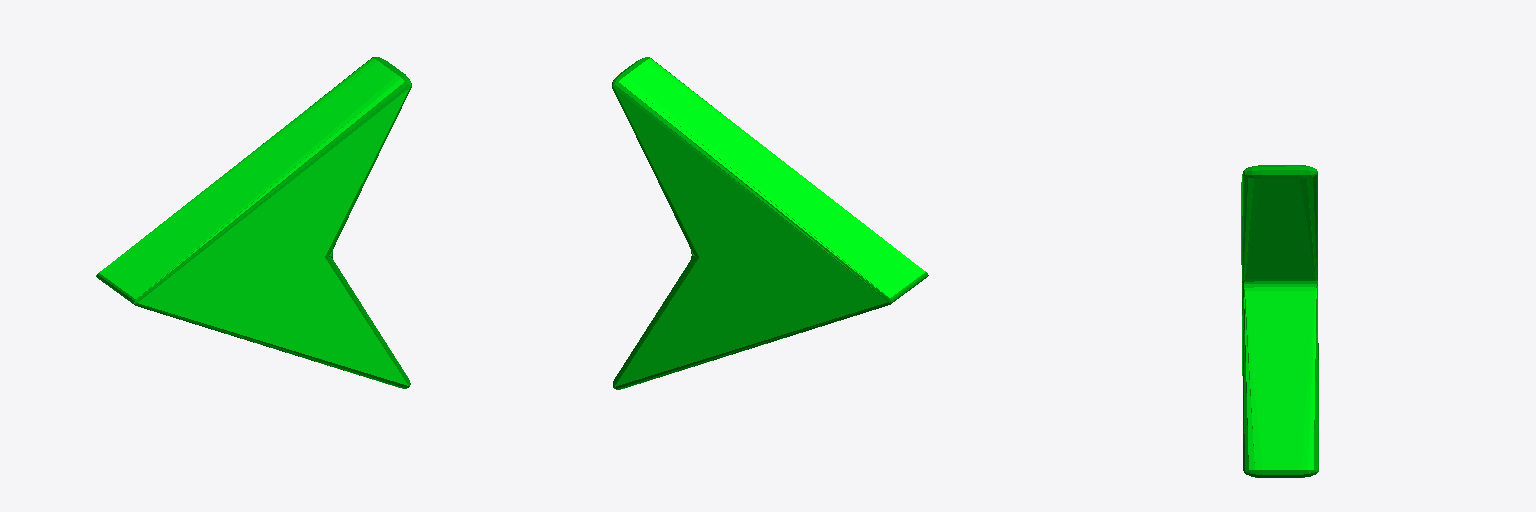
Rendered from arrow2.obj.
3 renders of one model, left to right at view 1: azimuth 30°, elevation 25°; view 2: azimuth 150°, elevation 25°; view 3: azimuth 270°, elevation 25°, orthographic.
Visible parts, largest first — view 1: Object.1; view 2: Object.1; view 3: Object.1.
Boxes of the visible parts, x1=… form: Object.1: x1=96, y1=57, x2=411, y2=388; Object.1: x1=612, y1=57, x2=928, y2=389; Object.1: x1=1241, y1=165, x2=1318, y2=477.
Size of the model in its own units: 1.32 by 1.38 by 0.3145.